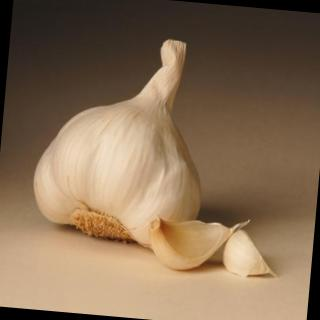Bawang Putih: (28, 30, 218, 253), (146, 218, 236, 276), (223, 231, 285, 283)
